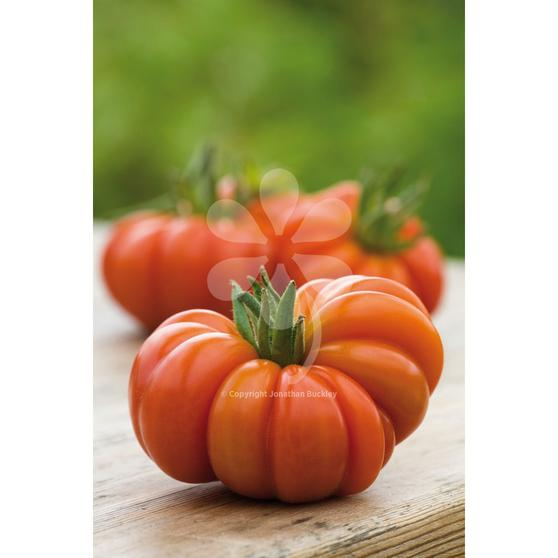tomato: (136, 276, 441, 508)
